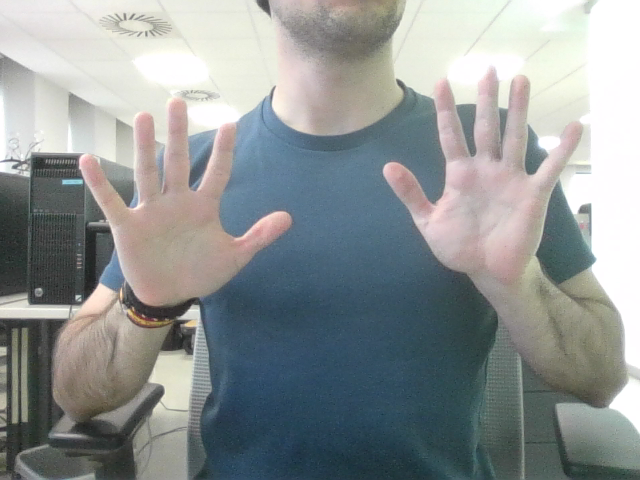Manos Arriba: (114, 87, 552, 271)
